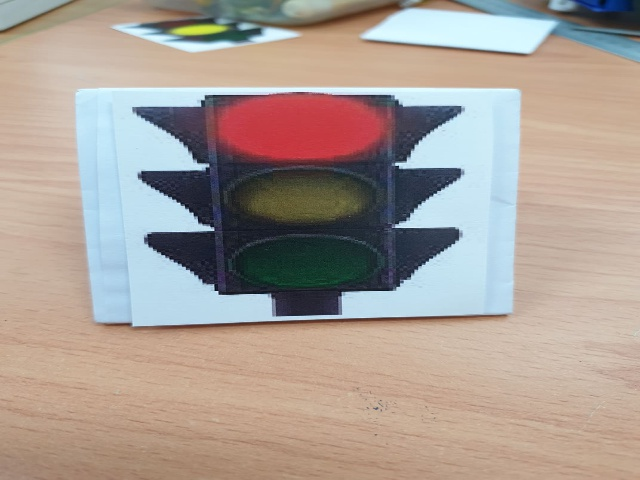Red: (112, 88, 495, 321)
